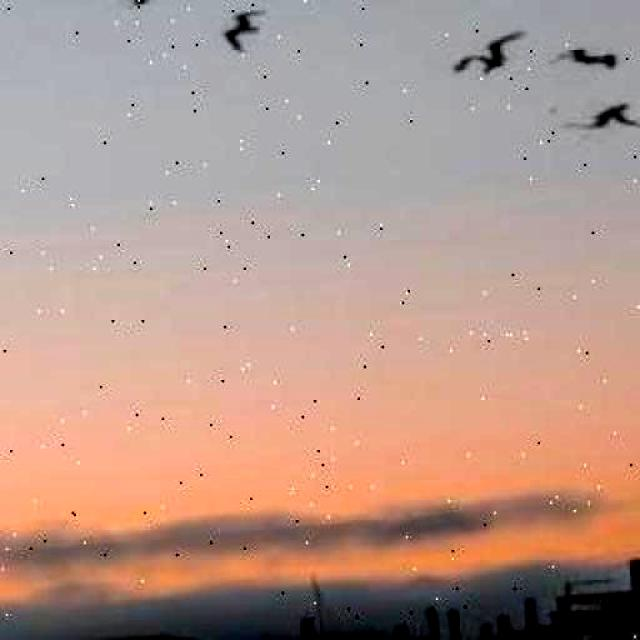airplane: (442, 22, 535, 79), (552, 98, 640, 136), (548, 45, 621, 79), (224, 9, 270, 55), (104, 0, 156, 9)
